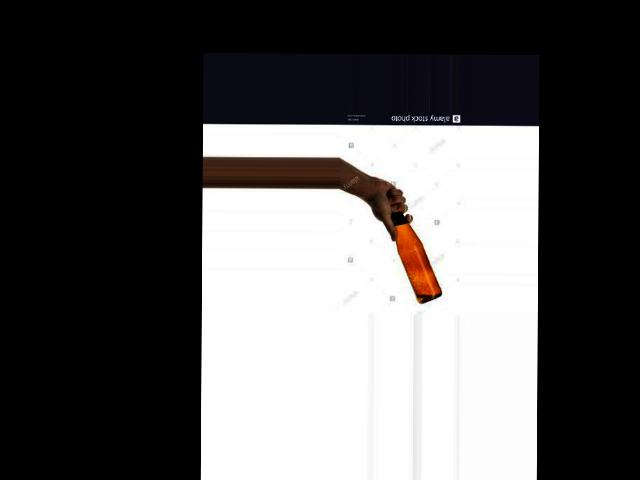beer: (386, 192, 442, 304)
